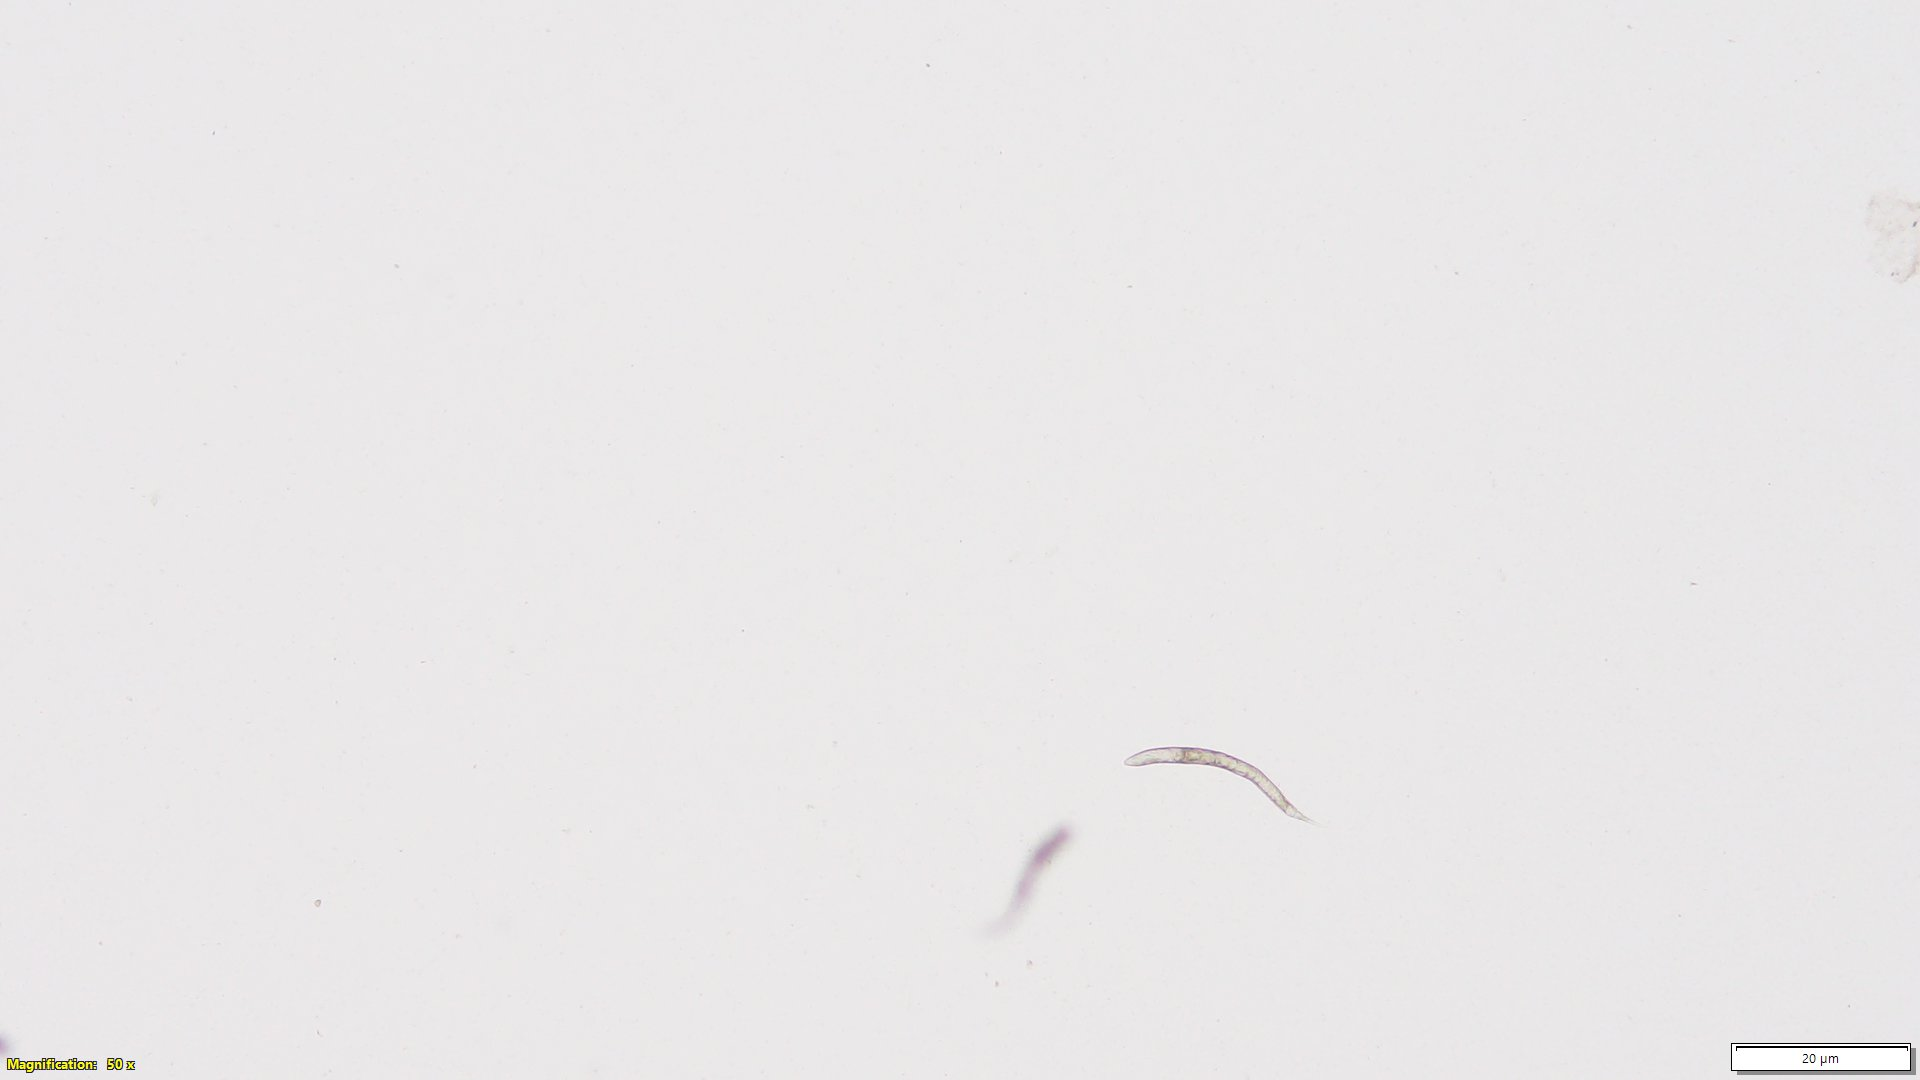worm: (1121, 744, 1327, 836)
